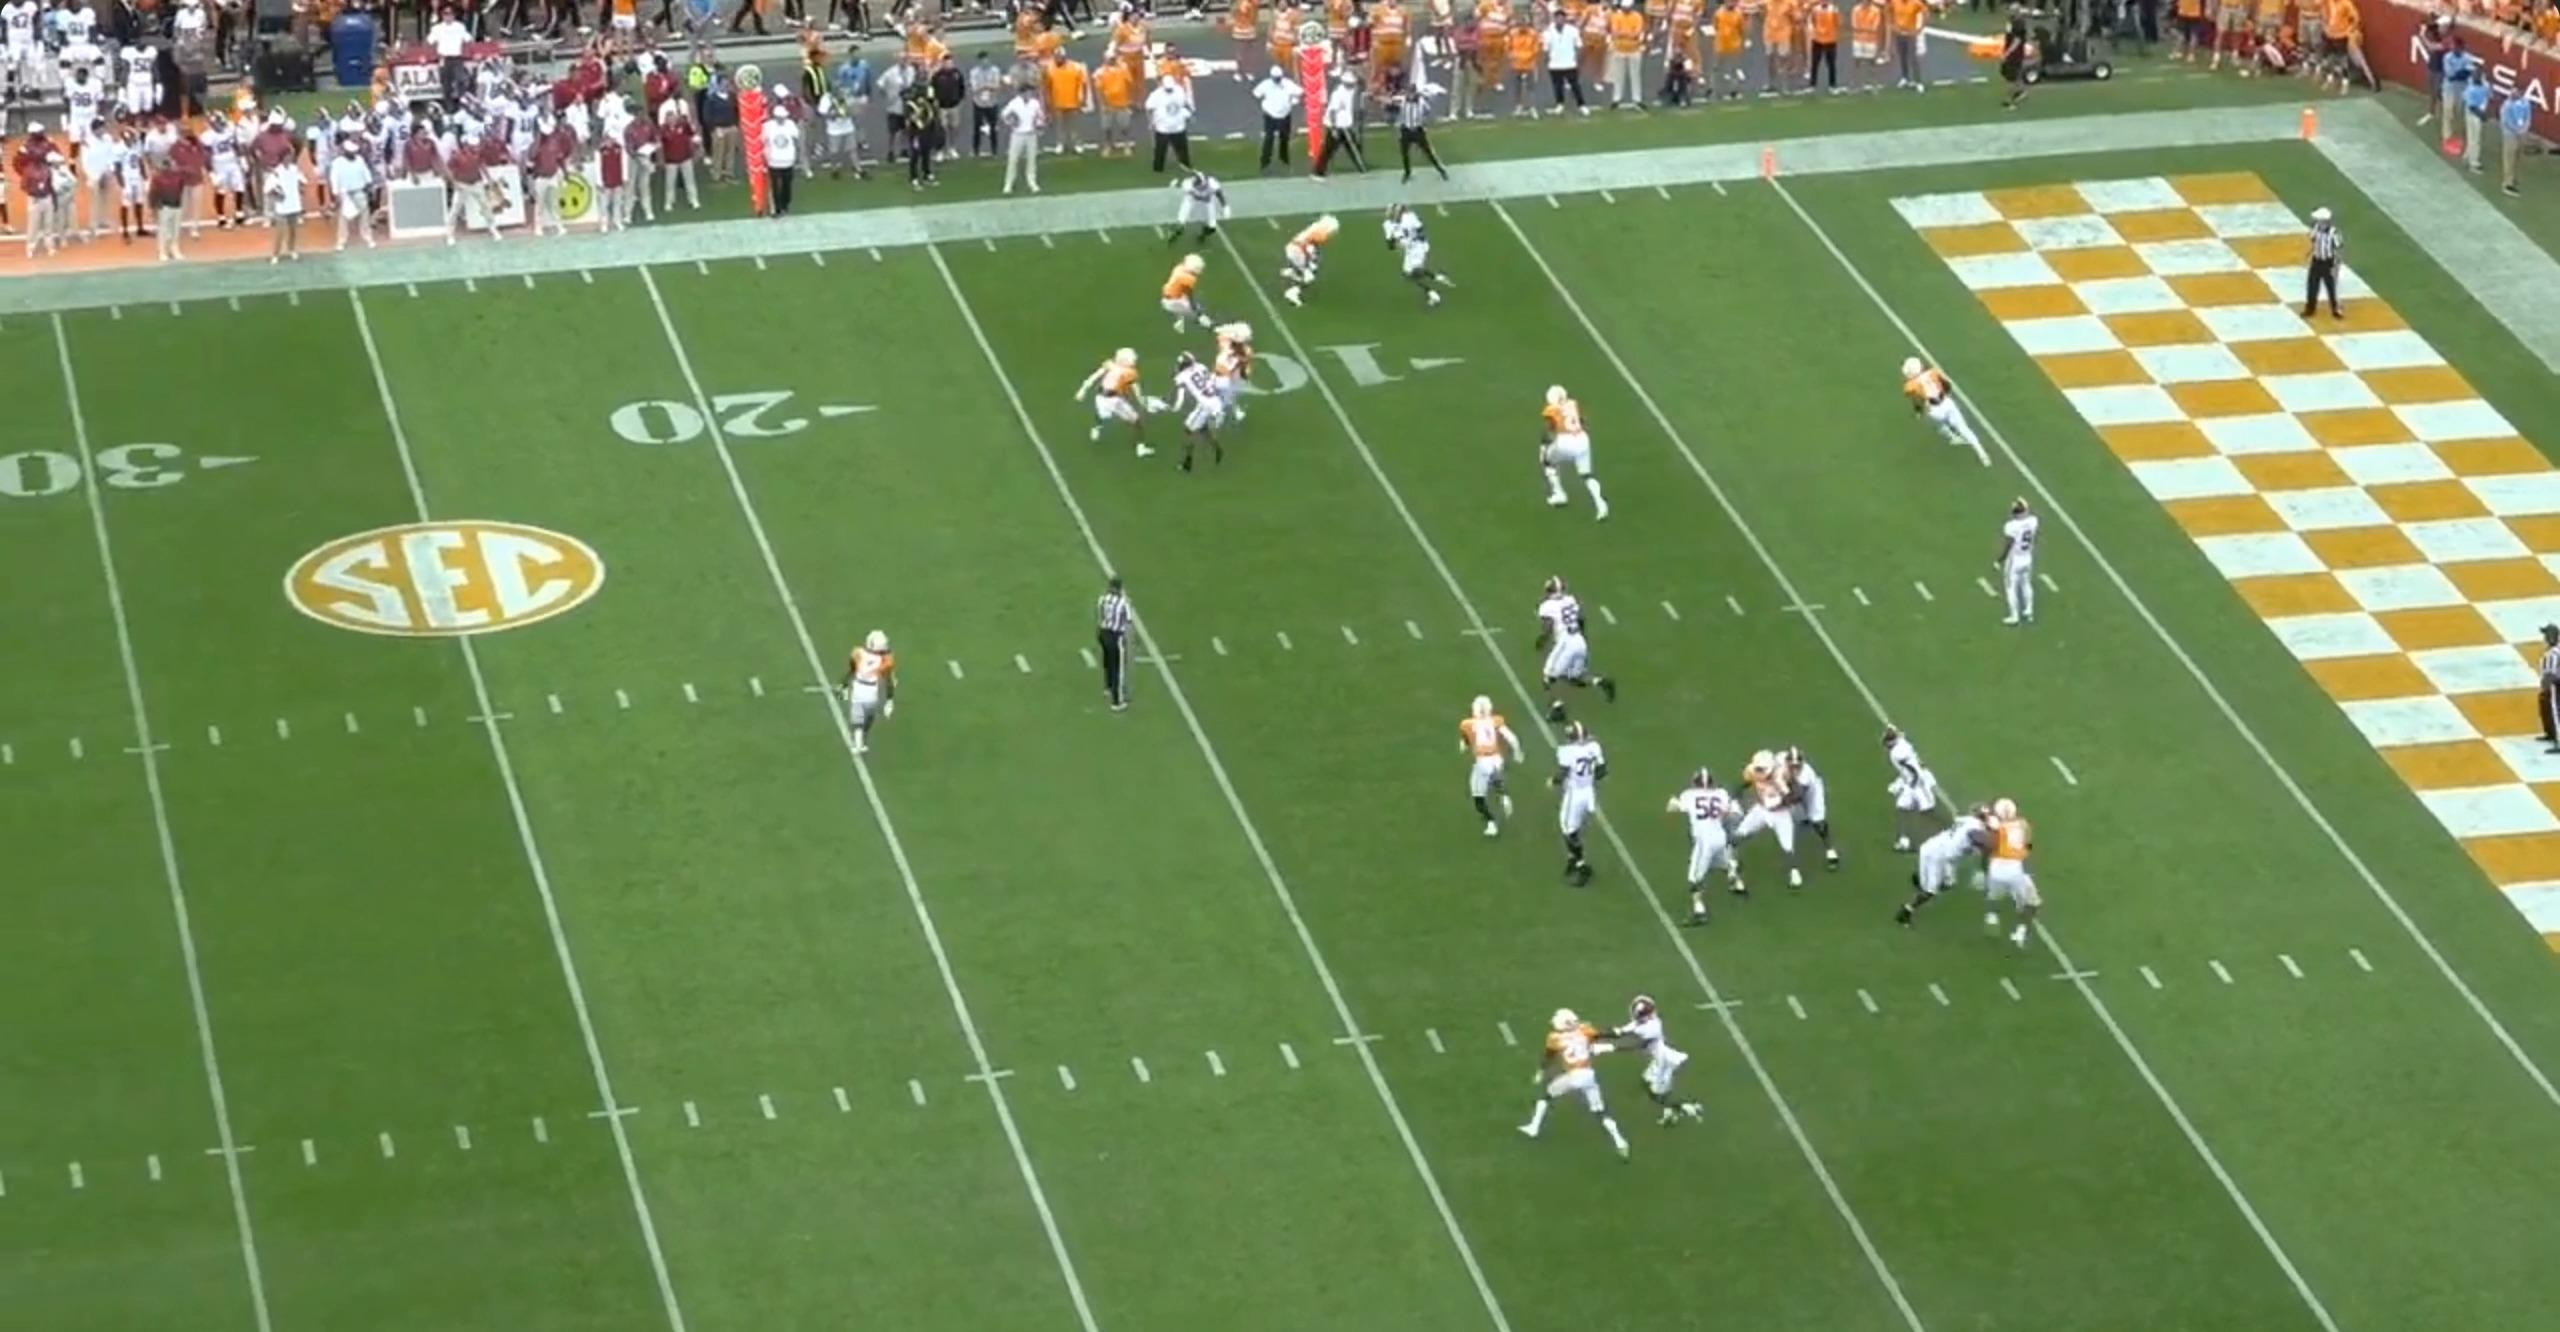player: (1525, 1009, 1646, 1169), (1659, 771, 1749, 932), (1719, 745, 1812, 894), (1887, 804, 1996, 931), (1599, 998, 1699, 1132), (1958, 801, 2044, 956), (1532, 576, 1620, 721), (1550, 713, 1622, 889), (1531, 379, 1614, 530), (1456, 689, 1531, 843), (1899, 354, 1994, 466), (1154, 346, 1231, 479), (1873, 726, 1950, 857), (1776, 742, 1851, 874), (1089, 342, 1169, 458), (1380, 203, 1462, 314), (1985, 500, 2049, 638), (830, 624, 896, 755), (1282, 206, 1348, 306), (1206, 313, 1258, 429), (1161, 250, 1216, 340), (1169, 168, 1226, 249)
ref: (1097, 573, 1154, 723), (1399, 87, 1458, 191), (2305, 202, 2354, 324), (2527, 620, 2557, 754), (2538, 620, 2560, 754)
